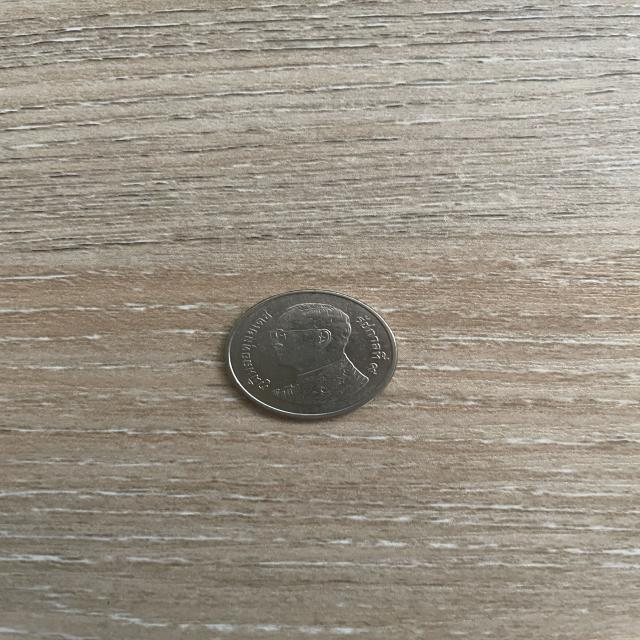1 Bath: (213, 279, 412, 433)
